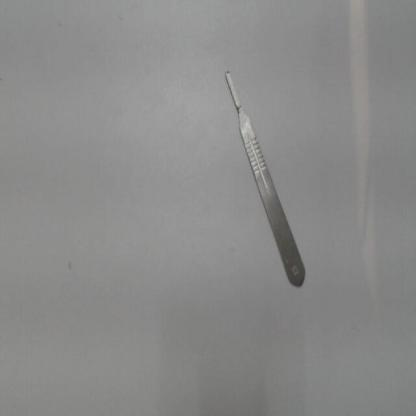No.4 BP Handle: (220, 65, 312, 296)
